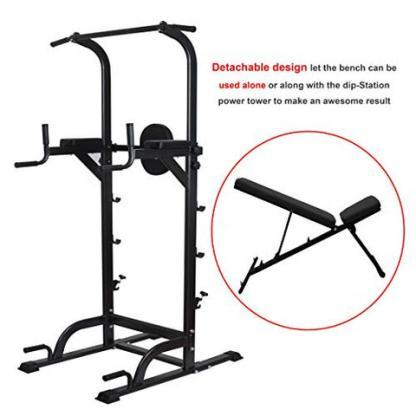chinning dipping: (16, 19, 209, 407)
